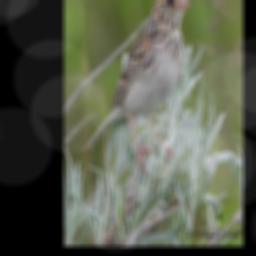Sparrow: (81, 0, 193, 180)
